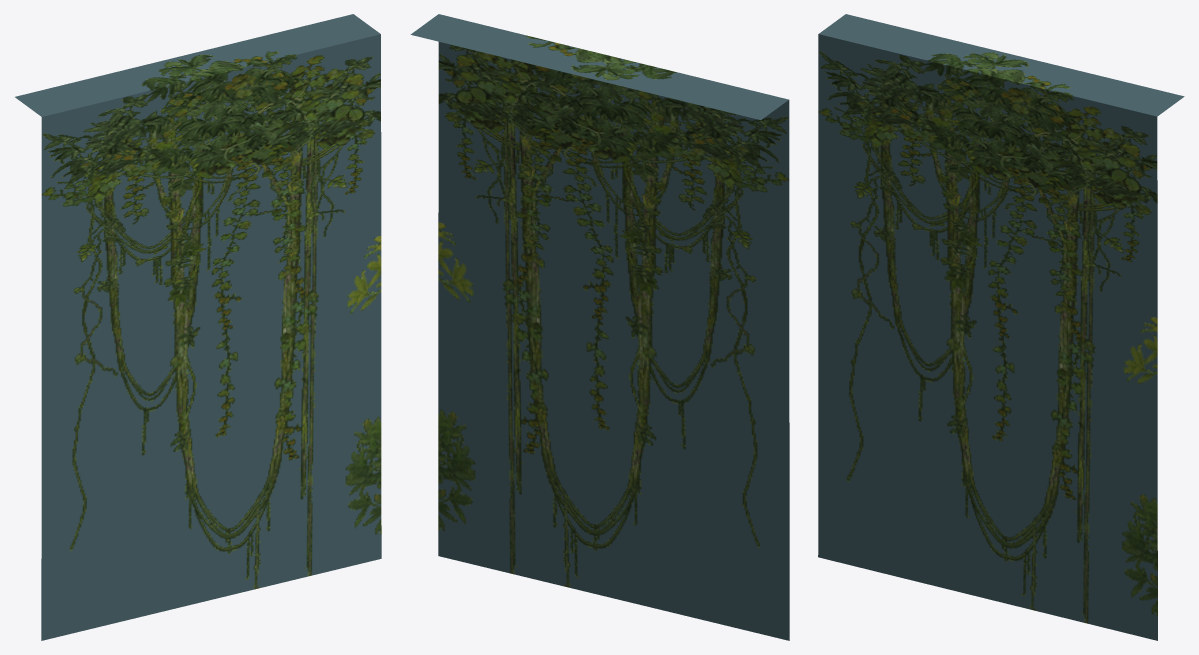
The model's file is yj_qingtai_1.FBX.
3 renders of one model, left to right at view 1: azimuth 30°, elevation 25°; view 2: azimuth 150°, elevation 25°; view 3: azimuth 330°, elevation 25°, orthographic. The views are drawn at different scales.
Visible parts, largest first — view 1: yj_qingtai_1; view 2: yj_qingtai_1; view 3: yj_qingtai_1.
Part boxes in pixels (x1,y1,x2,y2): yj_qingtai_1: (15, 14, 381, 640); yj_qingtai_1: (410, 14, 789, 640); yj_qingtai_1: (818, 14, 1184, 640).
Bounding box in the file's own units: 546 × 806 × 76.53.
